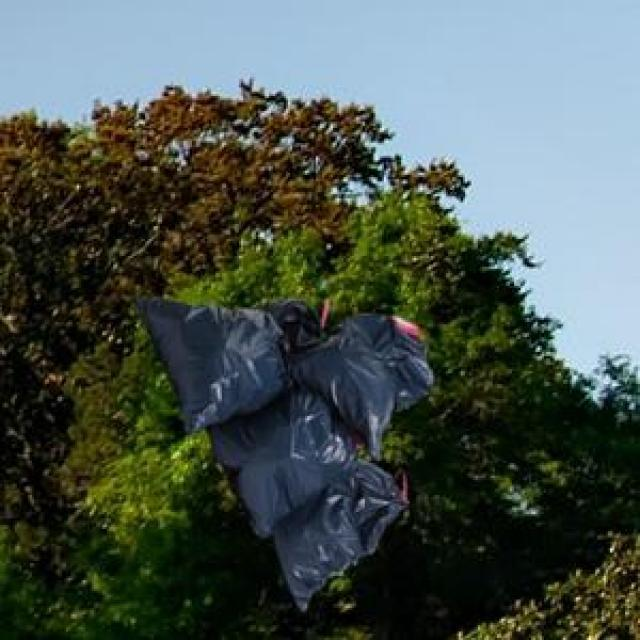waste: (210, 385, 360, 531), (278, 462, 411, 614), (292, 314, 438, 450), (143, 298, 293, 426)
